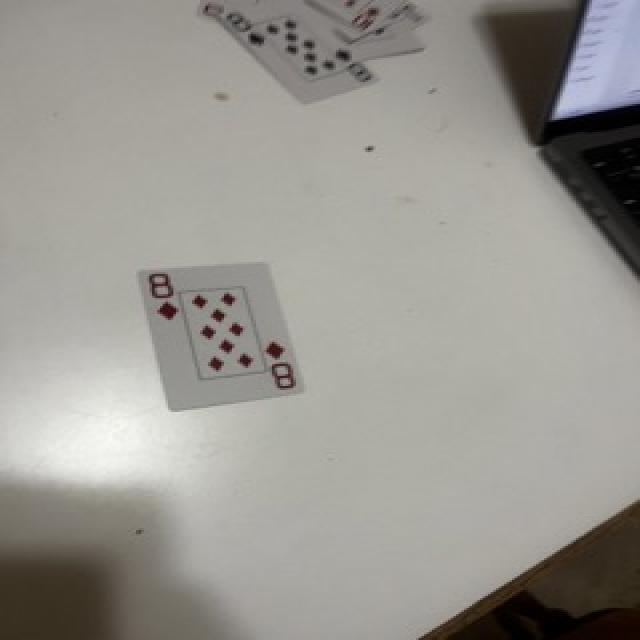8 of diamonds: (140, 264, 303, 410)
